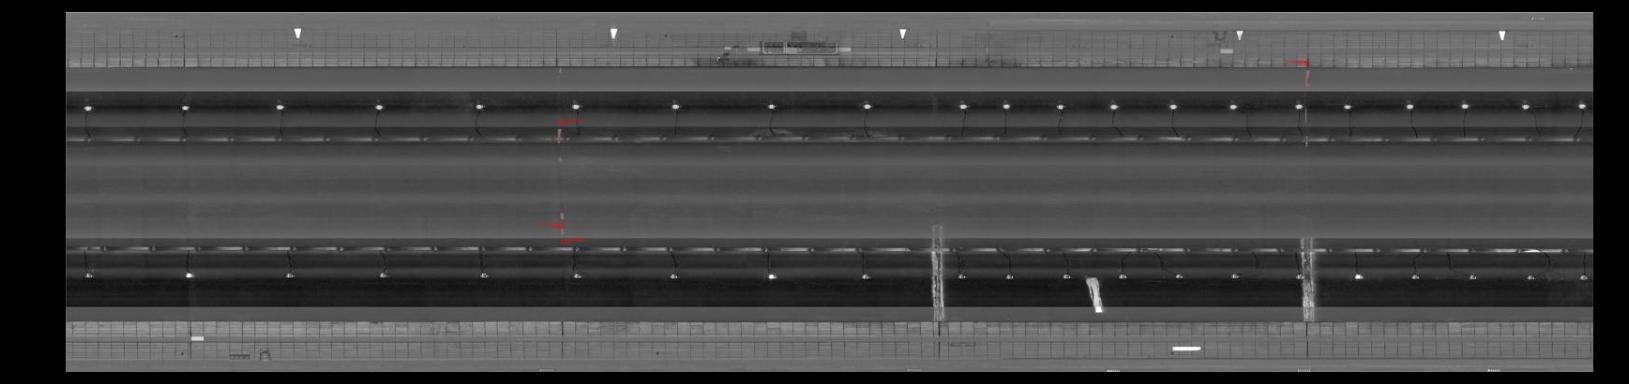light: (854, 100, 878, 113), (760, 268, 782, 282), (474, 268, 495, 282), (79, 267, 98, 282), (281, 268, 300, 282), (763, 99, 782, 113), (566, 100, 587, 113), (180, 267, 197, 282), (663, 269, 683, 282), (1169, 269, 1189, 282), (374, 268, 393, 281), (470, 100, 488, 113), (369, 101, 388, 114), (666, 100, 685, 113), (1574, 269, 1588, 285), (1350, 269, 1367, 282), (1516, 99, 1533, 112), (173, 102, 194, 113), (1223, 100, 1241, 112), (1523, 268, 1539, 282), (78, 102, 96, 114), (271, 101, 289, 113), (1407, 270, 1424, 282), (1104, 100, 1122, 112), (855, 271, 874, 282), (1456, 100, 1474, 111), (1401, 100, 1418, 112), (568, 271, 586, 282), (1114, 271, 1131, 282), (1060, 270, 1075, 282), (954, 100, 972, 110), (1052, 100, 1068, 112), (1573, 100, 1588, 112), (953, 271, 969, 282), (997, 101, 1014, 112), (1164, 101, 1180, 112), (1000, 271, 1016, 282), (1226, 271, 1241, 282), (1465, 271, 1480, 282), (1290, 99, 1306, 110), (1341, 101, 1356, 112), (1291, 271, 1305, 282)
